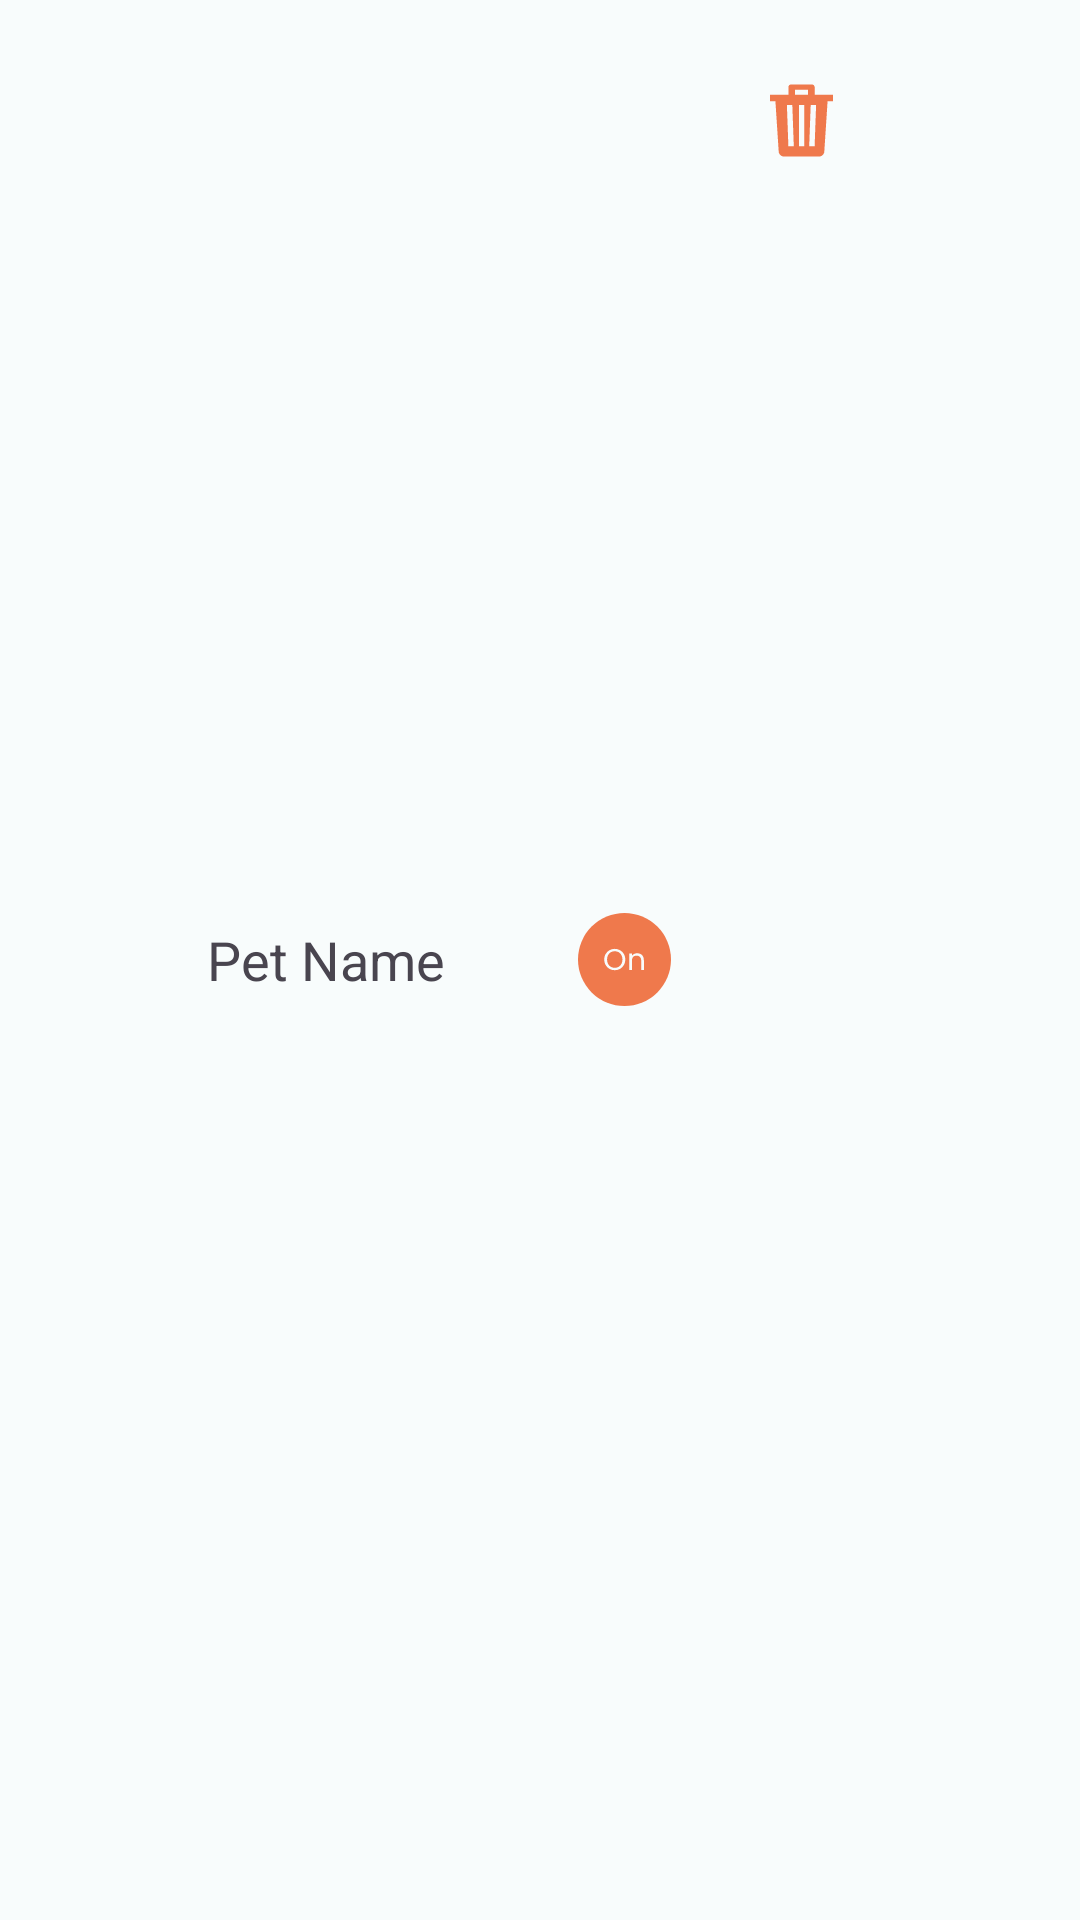

Where icons sit on this 1080w x 1920h app screen, as box(x1, y1, x2, y2):
delete: box(770, 84, 833, 157)
